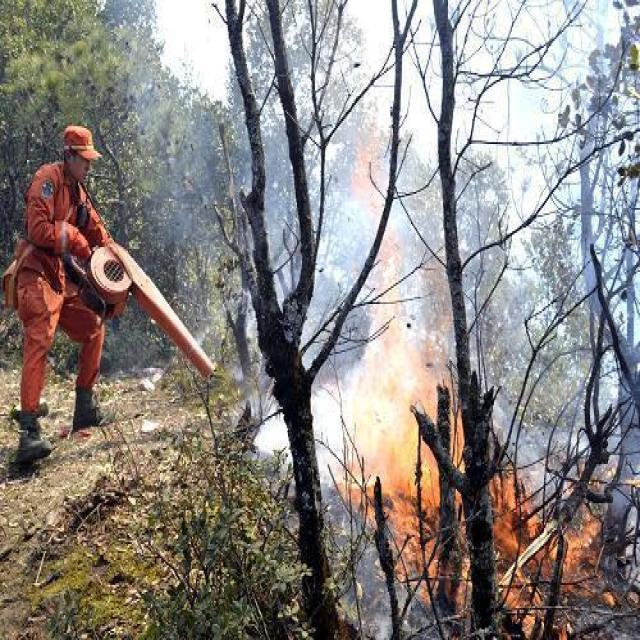Fire: (334, 126, 612, 624)
Smoke: (315, 394, 342, 442), (256, 420, 284, 454)
